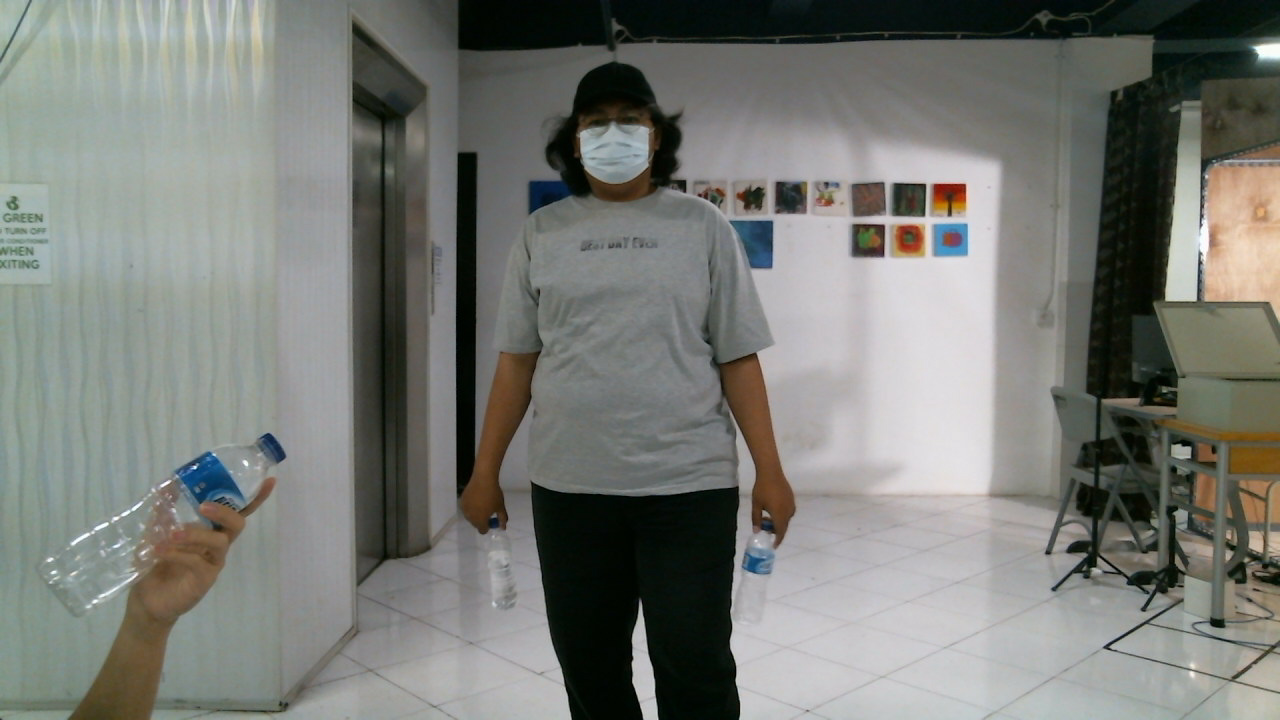Bottle: (40, 428, 284, 617)
